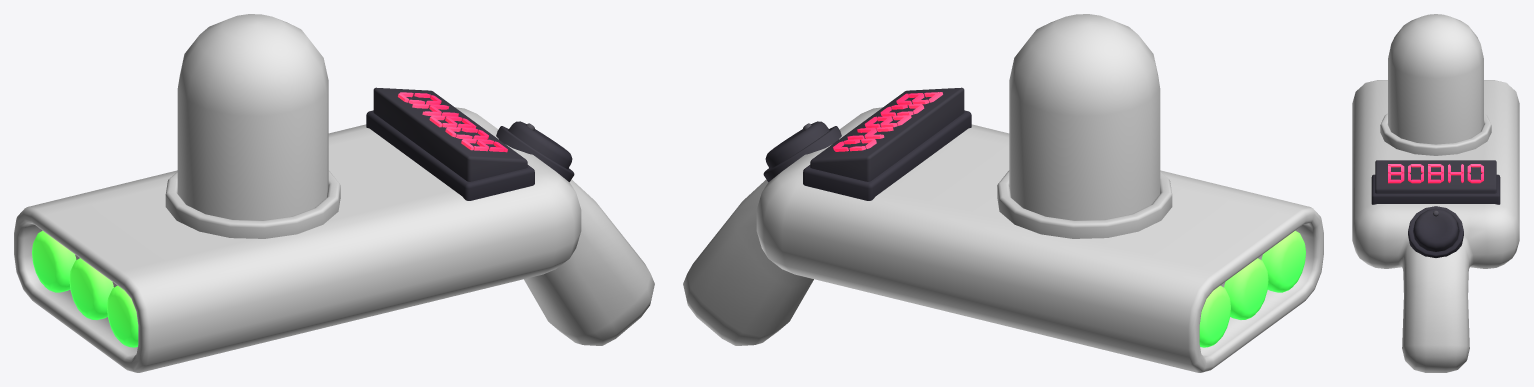
File: PortalGun.fbx
3 renders of one model, left to right at view 1: azimuth 30°, elevation 25°; view 2: azimuth 150°, elevation 25°; view 3: azimuth 270°, elevation 25°, orthographic. The views are drawn at different scales.
Parts seen in each view (by area): view 1: Gun, CapsuleGlass, TextBase, FrontGlow, CapsuleBase, DialPad, Text; view 2: Gun, CapsuleGlass, TextBase, FrontGlow, CapsuleBase, DialPad, Text; view 3: Gun, CapsuleGlass, TextBase, DialPad, CapsuleBase, Text.
Part boxes in pixels (x1,y1,x2,y2): Gun: (14,107,654,372); CapsuleGlass: (177,14,328,220); TextBase: (366,87,534,200); FrontGlow: (32,230,138,347); CapsuleBase: (165,170,340,238); DialPad: (496,121,574,181); Text: (398,92,507,152); Gun: (683,107,1323,372); CapsuleGlass: (1009,14,1160,220); TextBase: (803,87,971,200); FrontGlow: (1199,230,1305,347); CapsuleBase: (997,170,1172,238); DialPad: (763,121,841,181); Text: (833,92,942,151); Gun: (1352,80,1519,372); CapsuleGlass: (1388,14,1483,144); TextBase: (1371,160,1500,204); DialPad: (1408,206,1463,257); CapsuleBase: (1380,113,1491,155); Text: (1388,164,1483,183).
Bounding box in the file's own units: 243 × 163 × 99.08.
